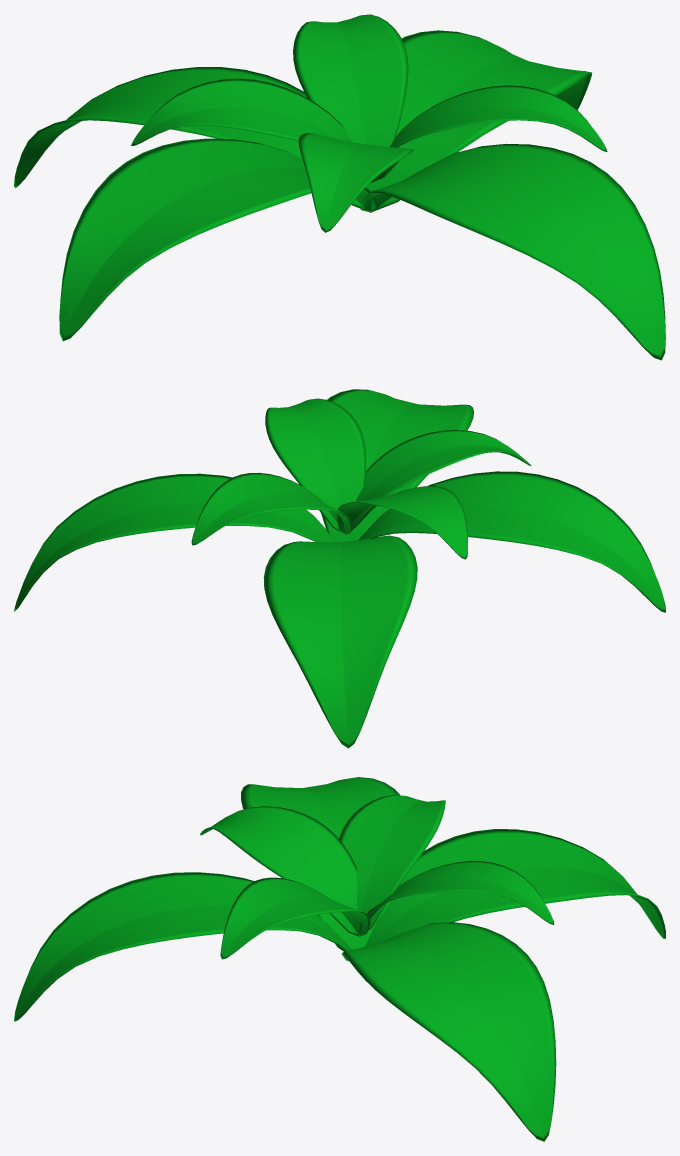
File: PalmGrass1.fbx
3 renders of one model, top to bottom at view 1: azimuth 30°, elevation 25°; view 2: azimuth 150°, elevation 25°; view 3: azimuth 270°, elevation 25°, orthographic. The views are drawn at different scales.
Visible parts, largest first — view 1: PalmGrass1; view 2: PalmGrass1; view 3: PalmGrass1.
Boxes of the visible parts, x1,y1,x2,y2 form: PalmGrass1: [14, 14, 665, 360]; PalmGrass1: [14, 389, 665, 748]; PalmGrass1: [14, 777, 665, 1141].
Size of the model in its own units: 5.81 by 5.8 by 1.55.
